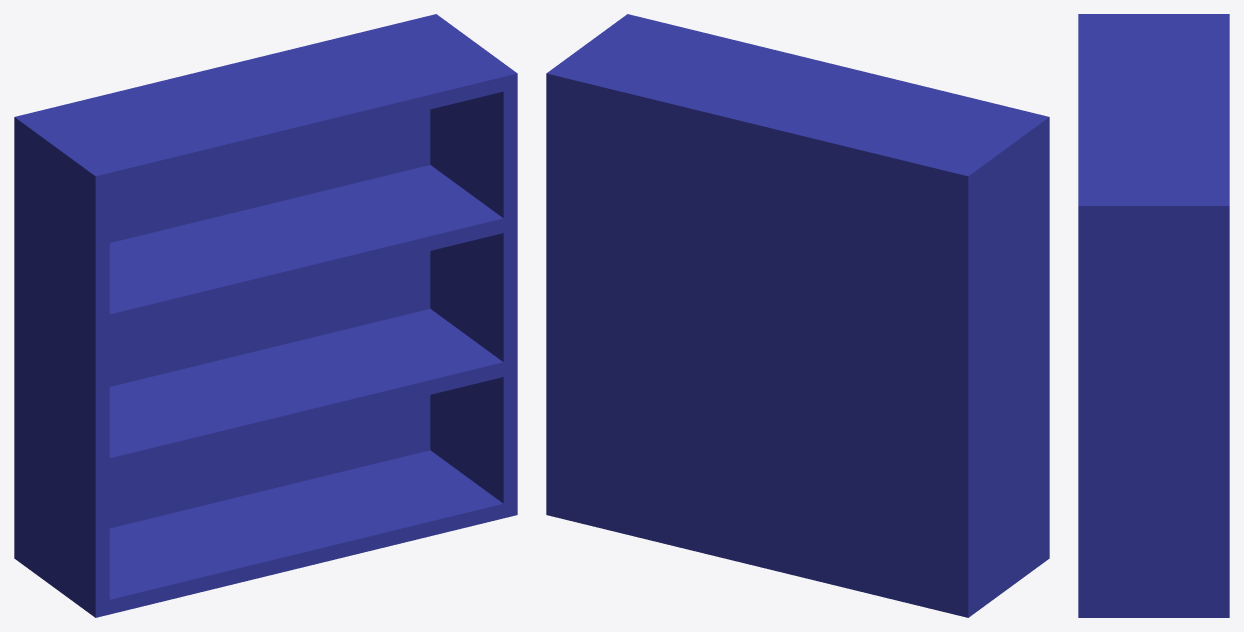
Rendered from storageA_1x3x3.FBX.
3 renders of one model, left to right at view 1: azimuth 30°, elevation 25°; view 2: azimuth 150°, elevation 25°; view 3: azimuth 270°, elevation 25°, orthographic. The views are drawn at different scales.
Parts seen in each view (by area): view 1: storageA_1x3x3; view 2: storageA_1x3x3; view 3: storageA_1x3x3.
Boxes of the visible parts, box(x1,y1,x2,y2) form: storageA_1x3x3: box(14, 14, 517, 617); storageA_1x3x3: box(546, 14, 1049, 617); storageA_1x3x3: box(1078, 14, 1229, 617).
Bounding box in the file's own units: 3 × 3 × 1.
